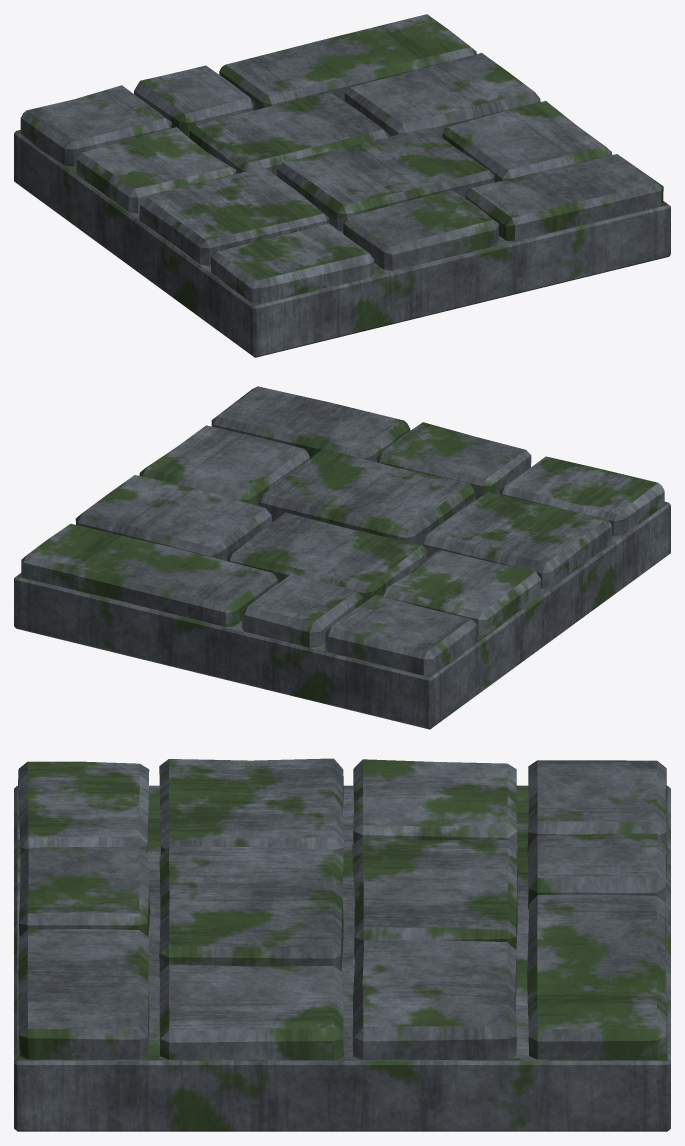
File: Bell_Paving_Flag.glb
3 renders of one model, top to bottom at view 1: azimuth 30°, elevation 25°; view 2: azimuth 150°, elevation 25°; view 3: azimuth 270°, elevation 25°, orthographic. The views are drawn at different scales.
Visible parts, largest first — view 1: Bell_Paving_Flag__Stone; view 2: Bell_Paving_Flag__Stone; view 3: Bell_Paving_Flag__Stone.
Part boxes in pixels (x1,y1,x2,y2): Bell_Paving_Flag__Stone: [14, 14, 670, 357]; Bell_Paving_Flag__Stone: [14, 386, 670, 729]; Bell_Paving_Flag__Stone: [14, 758, 670, 1131].
Bounding box in the file's own units: 7.98 × 1.41 × 7.98.
1 material, 1 textured.
